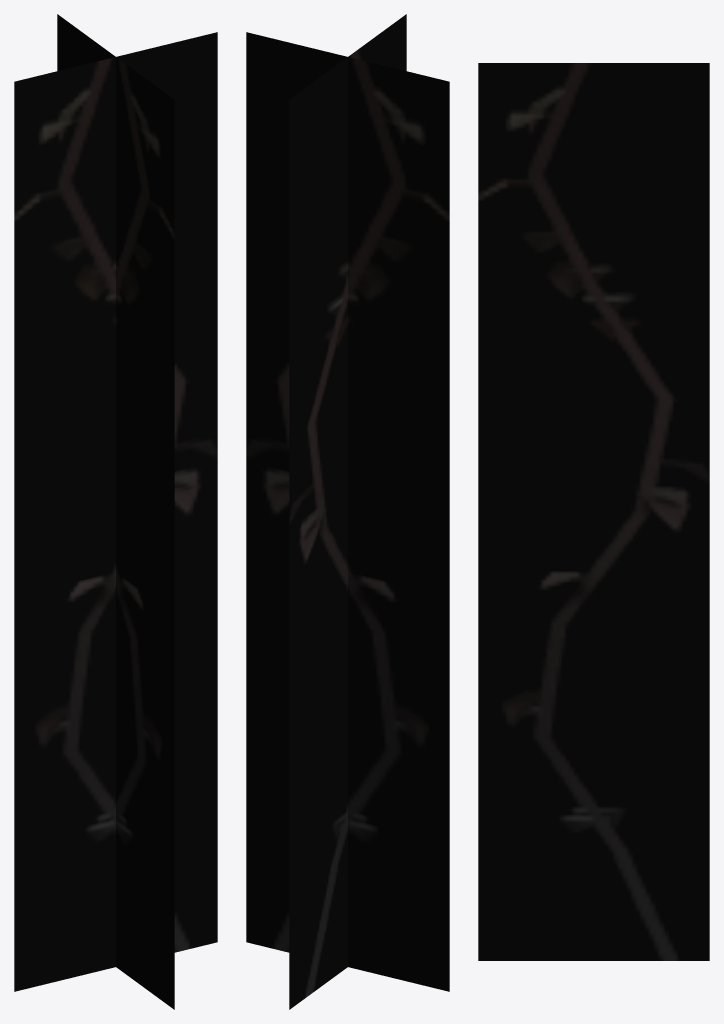
Rendered from trunk_vine_a_card.glb.
3 renders of one model, left to right at view 1: azimuth 30°, elevation 25°; view 2: azimuth 150°, elevation 25°; view 3: azimuth 270°, elevation 25°, orthographic.
Parts seen in each view (by area): view 1: trunk_vine_a_card; view 2: trunk_vine_a_card; view 3: trunk_vine_a_card.
Part boxes in pixels (x1,y1,x2,y2): trunk_vine_a_card: (14, 14, 217, 1009); trunk_vine_a_card: (246, 14, 449, 1009); trunk_vine_a_card: (478, 63, 709, 960).
Size of the model in its own units: 0.7472 by 3.2 by 0.7472.
1 material, 1 textured.
